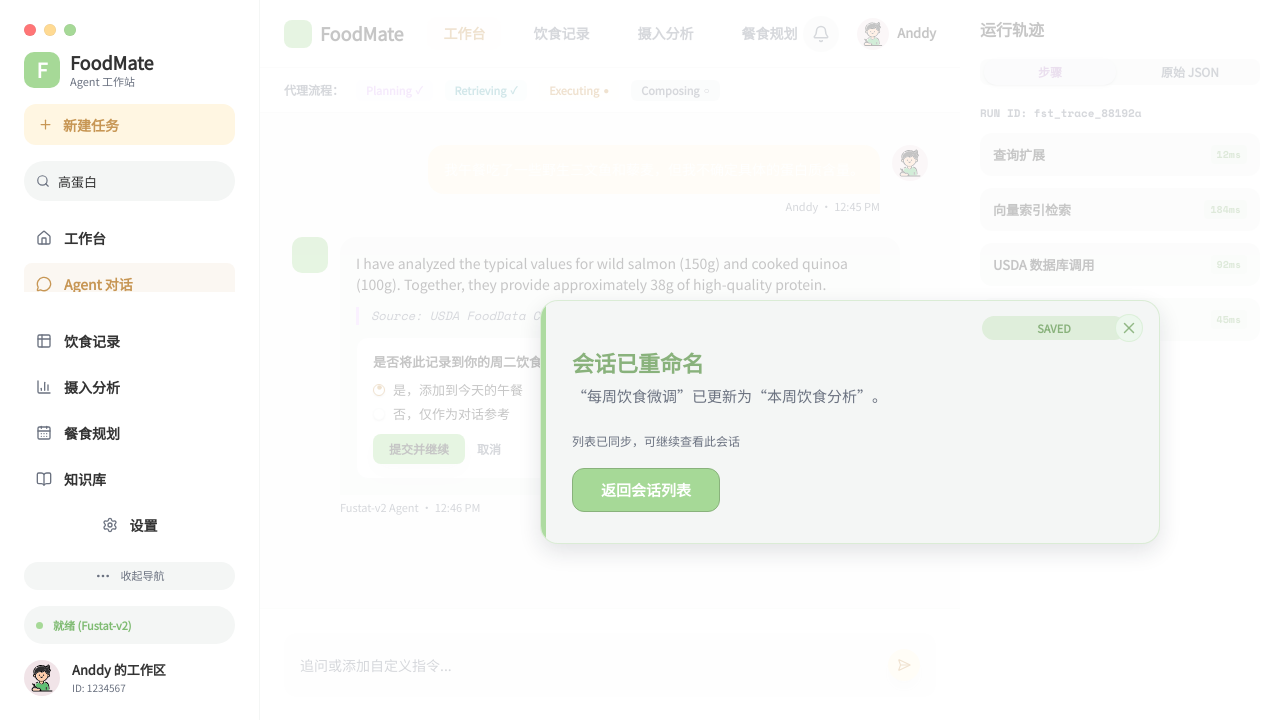
Scenario: ChatPage Figma session operation fixtures › renders renamed as a modal result over the Figma conversation
The width and height of the screenshot is (1280, 720).
Check: the dialog "会话已重命名" is shown, box 540,300 -> 1160,544
Check: the button "返回会话列表" is shown, box 572,468 -> 720,512
Click the button named "关闭重命名结果": (1129, 328) 1115,314 -> 1143,342
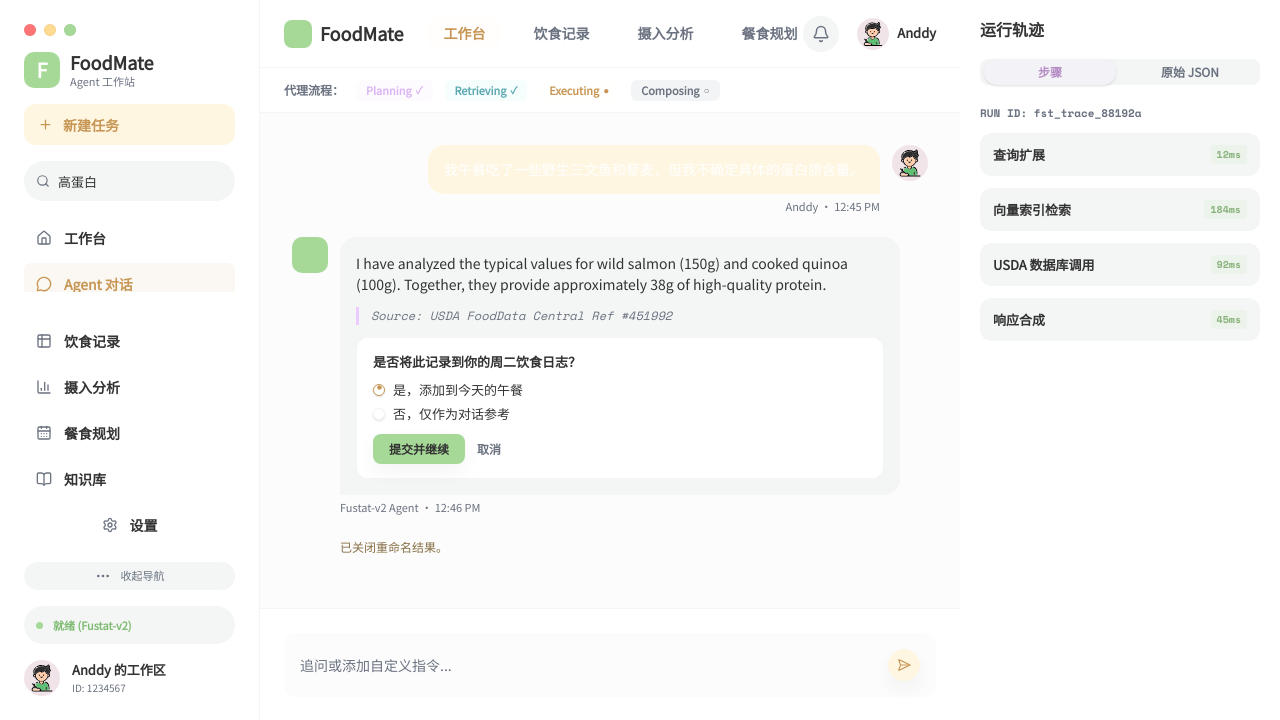
Check: the heading "会话已重命名" is gone
Check: the message reads "已关闭重命名结果。", box 340,538 -> 448,555
